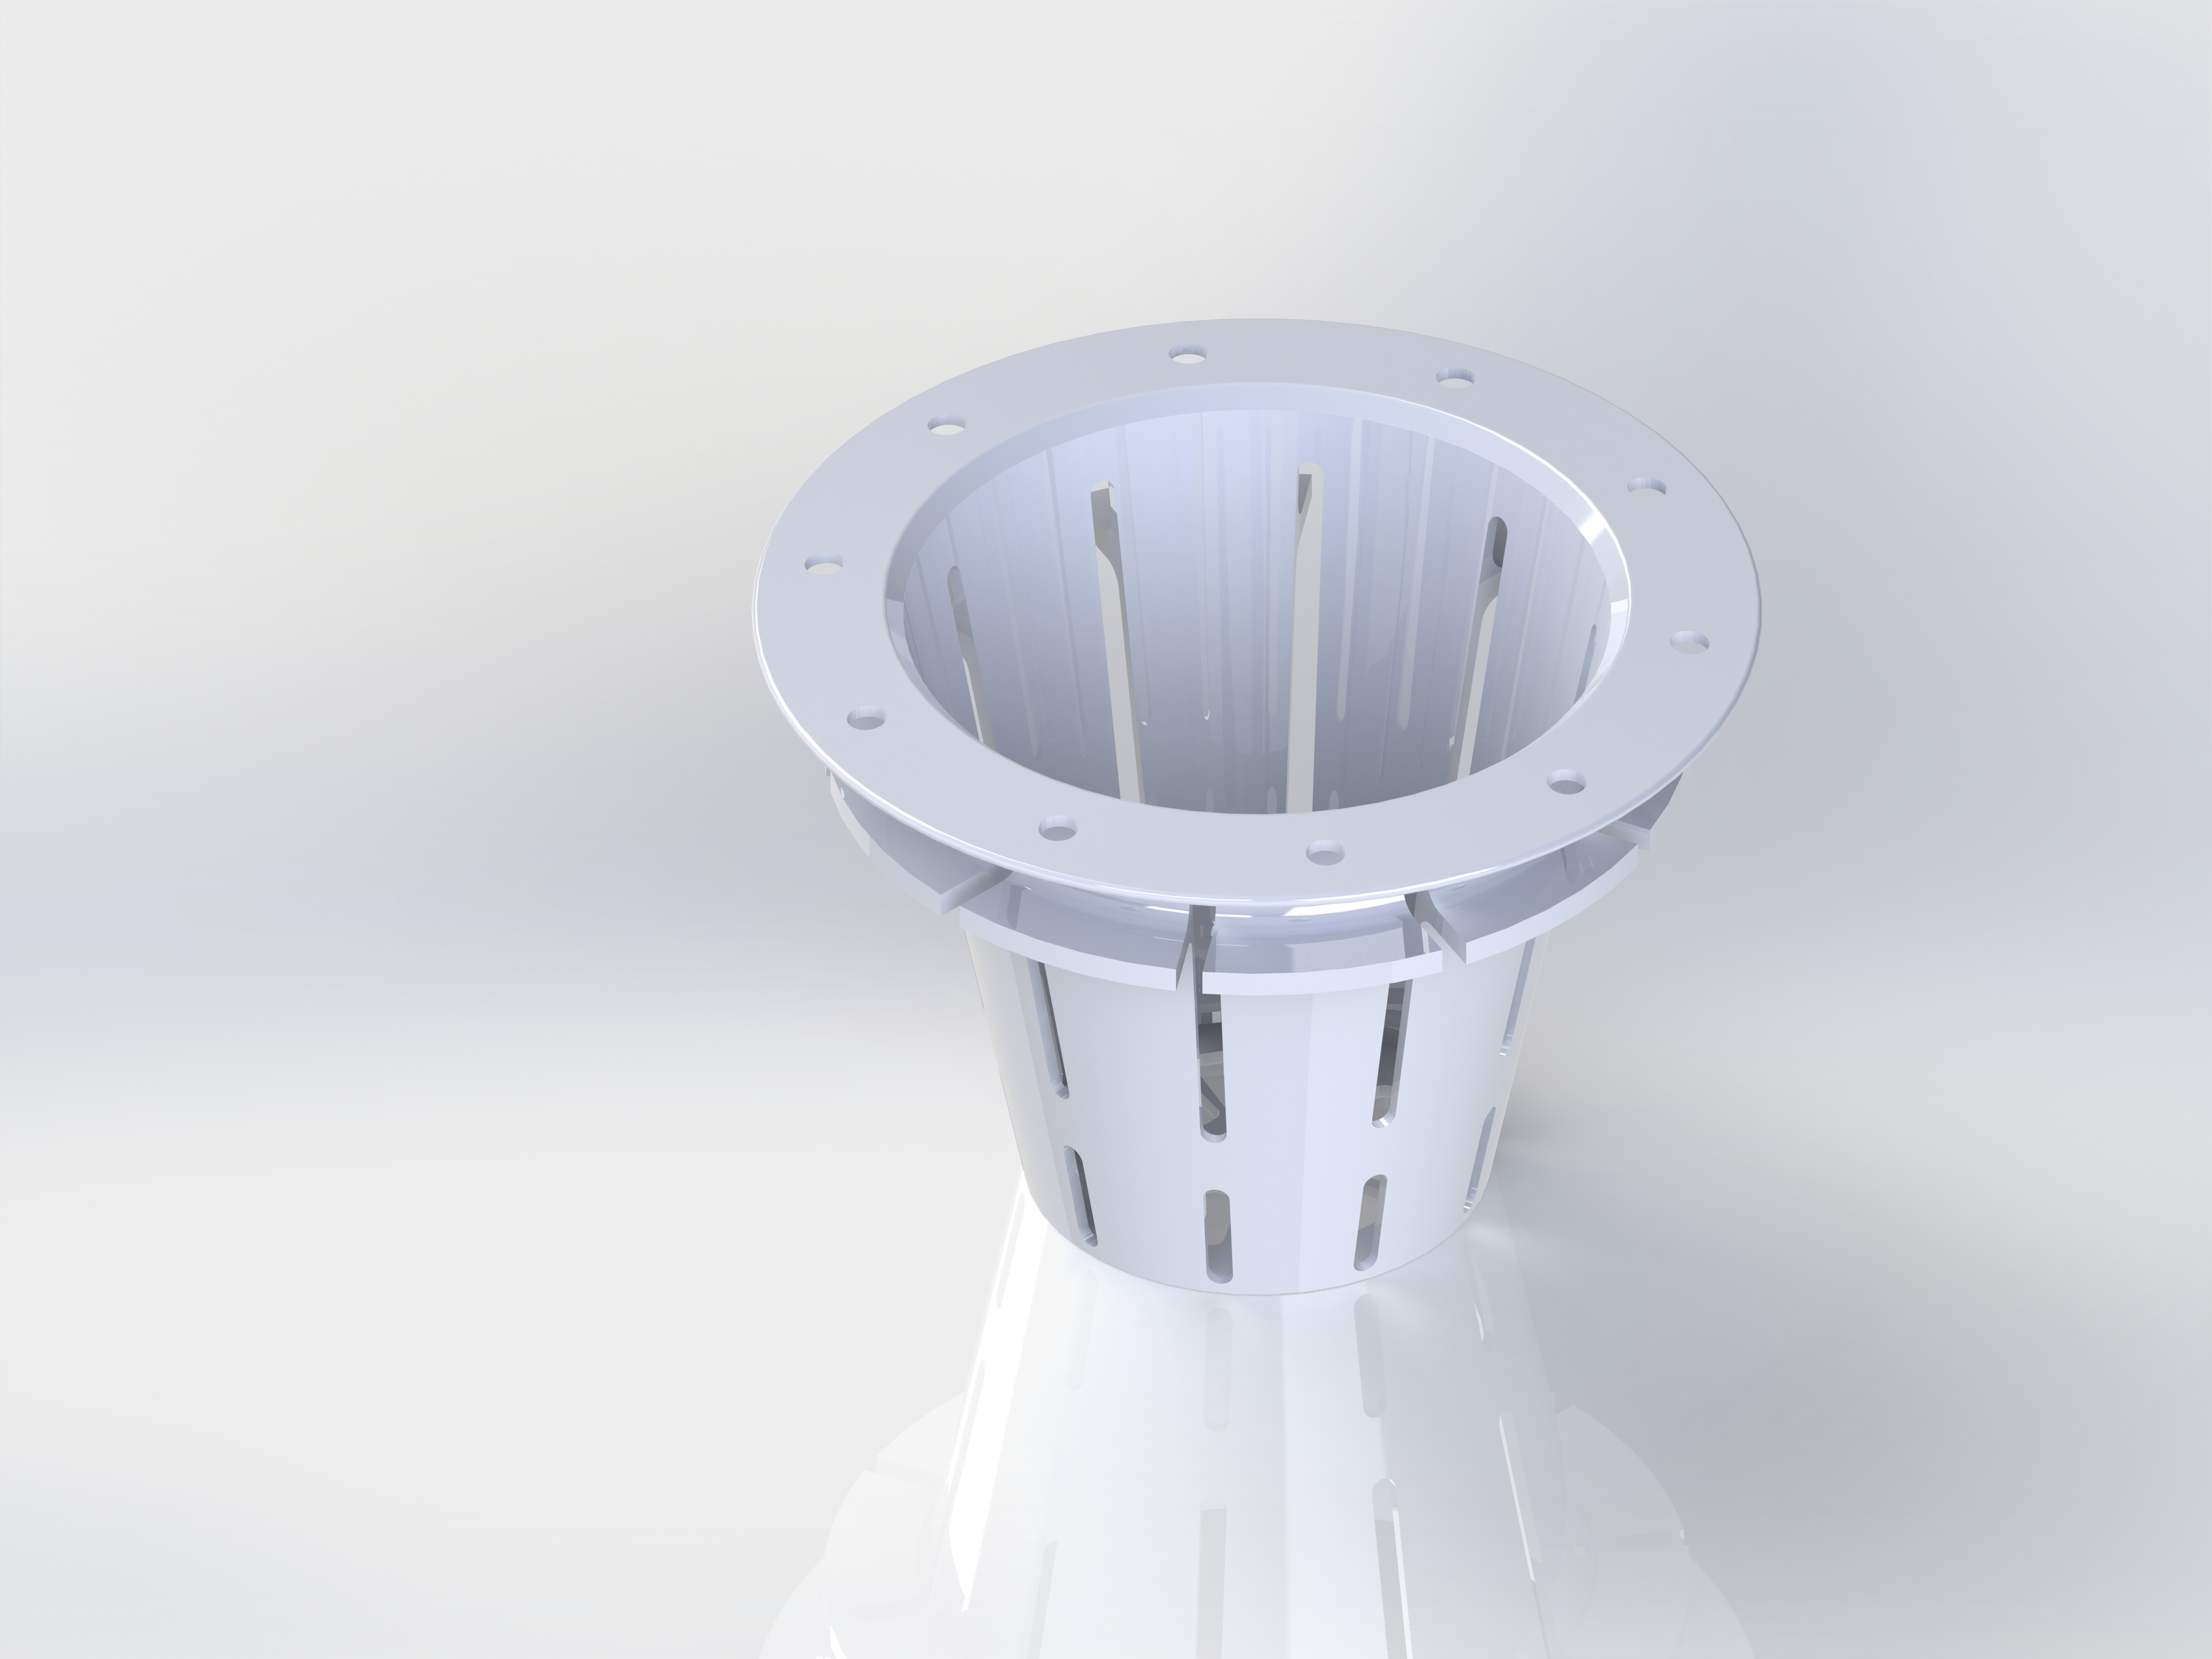basket: (758, 326, 1761, 1309)
